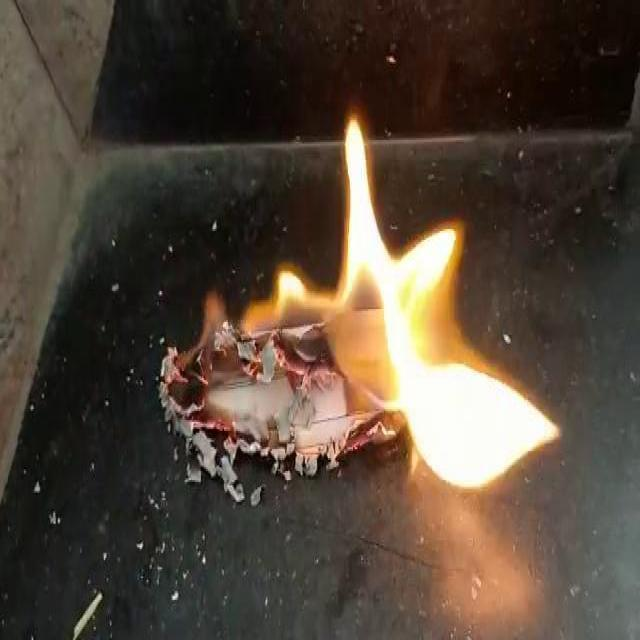Fire: (252, 111, 568, 514)
